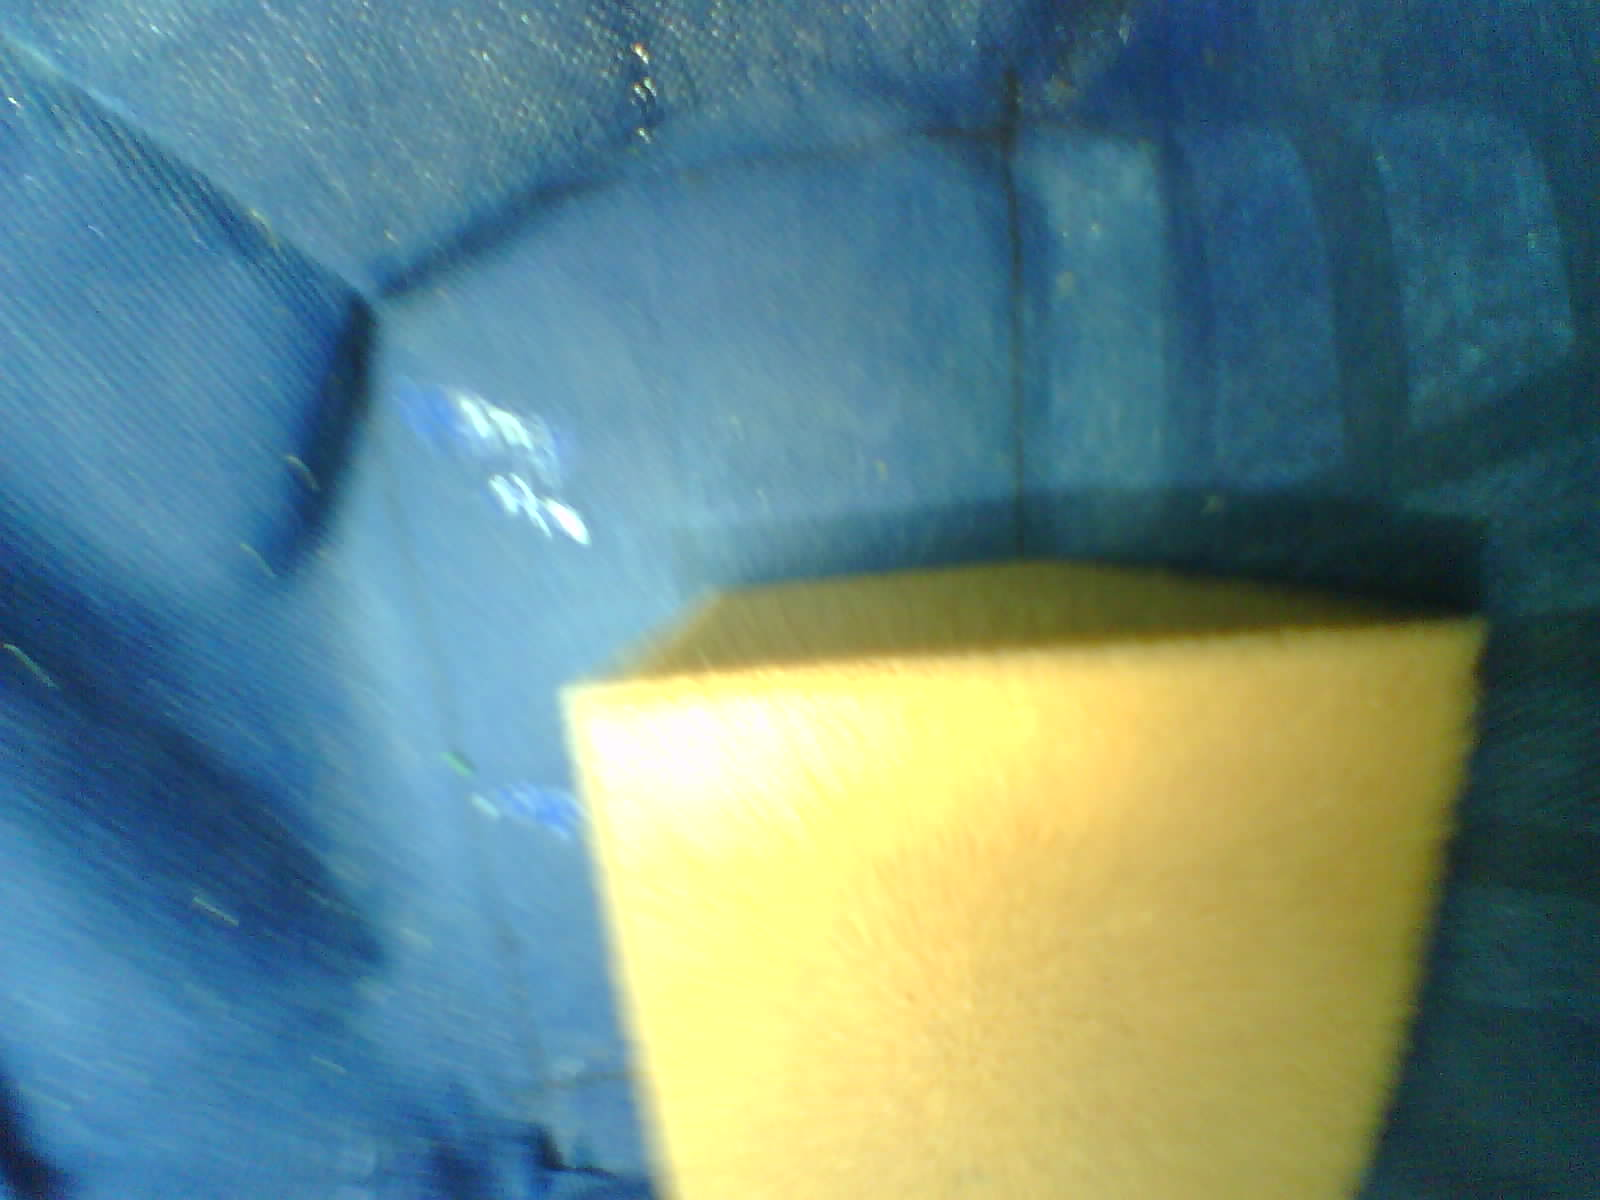cube-soft: (538, 542, 1512, 1200)
